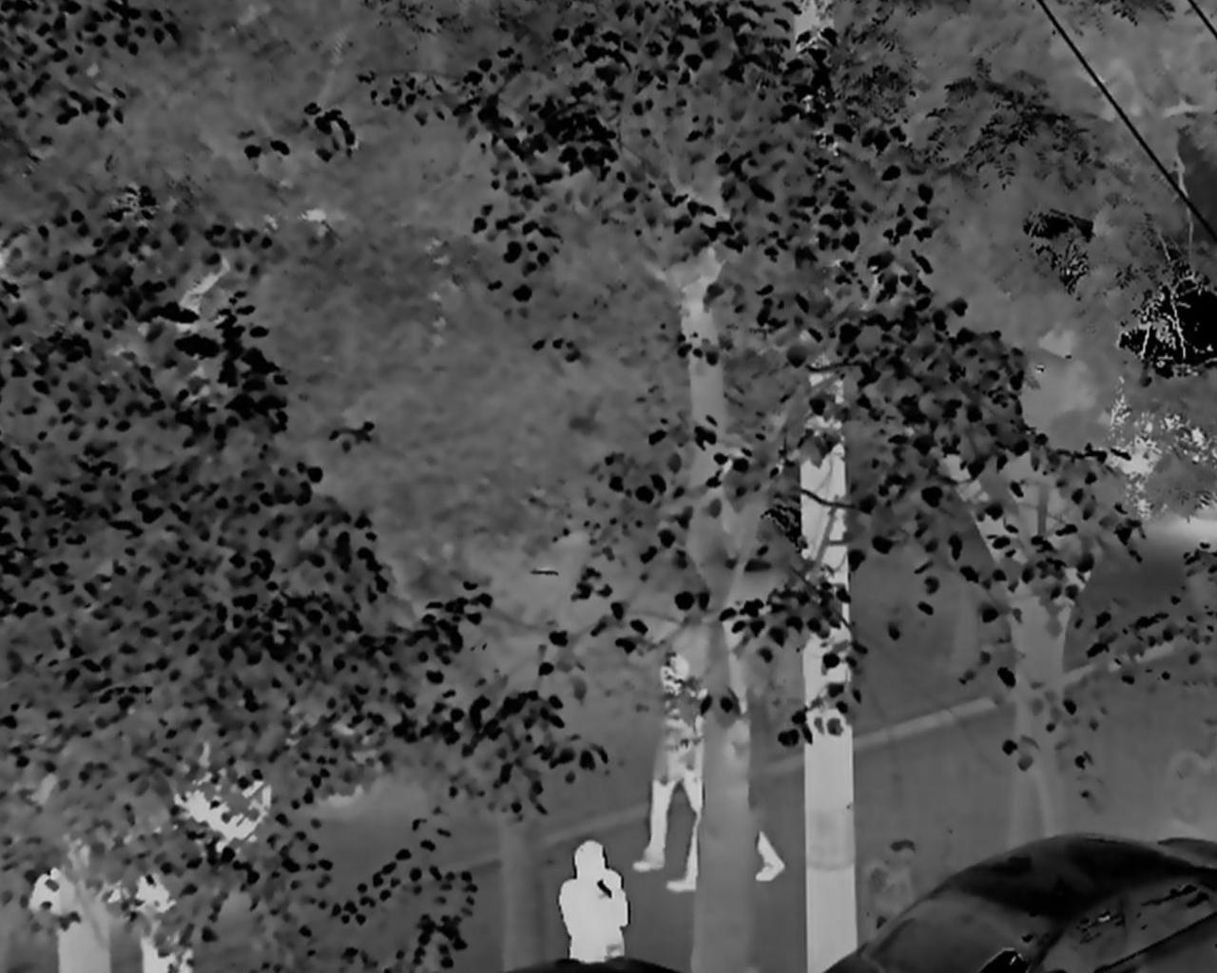person: (643, 658, 704, 885), (560, 841, 634, 970)
